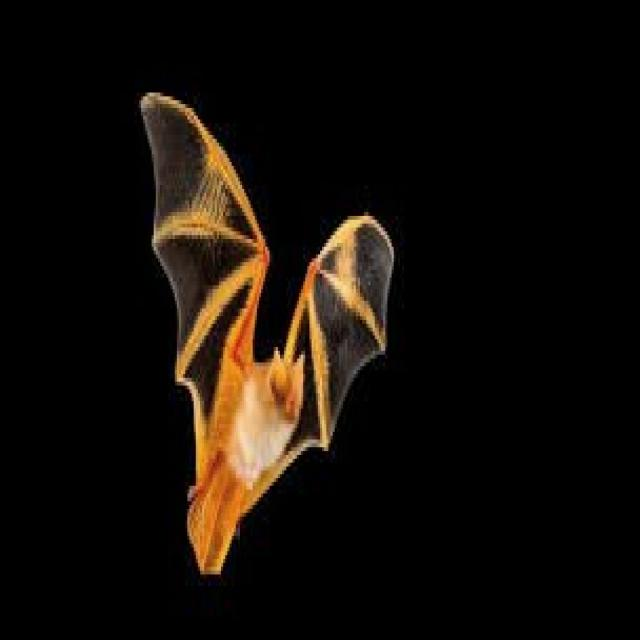bat: (143, 93, 394, 571)
